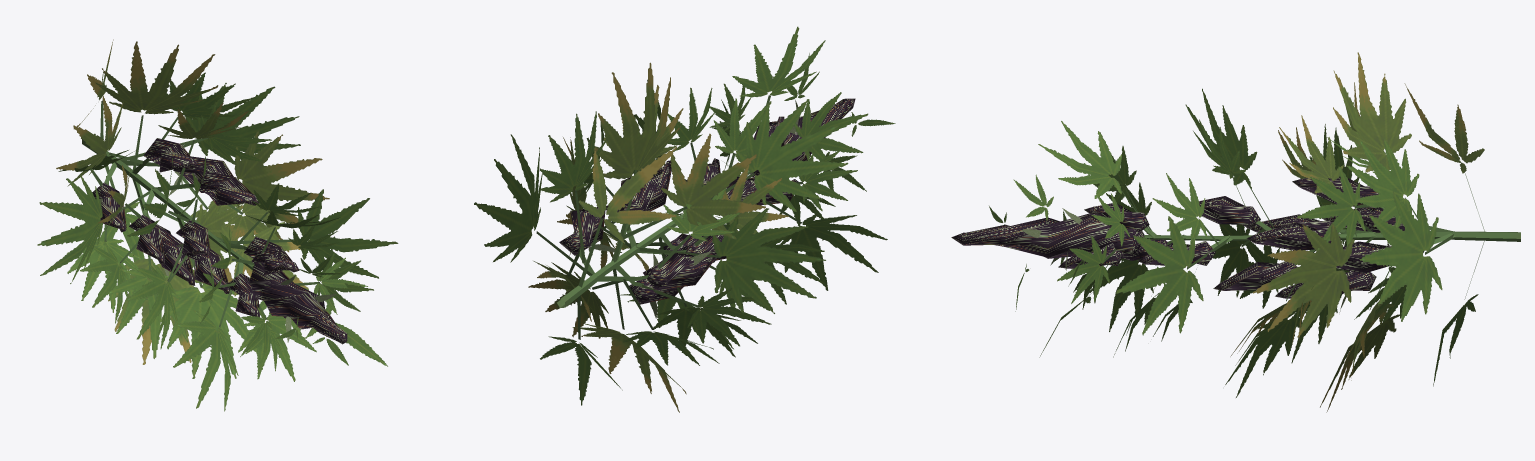
File: p_dark_landrace_ripe_c0_cards.obj
The picture shows the model from 3 angles, left to right: view 1: azimuth 30°, elevation 25°; view 2: azimuth 150°, elevation 25°; view 3: azimuth 270°, elevation 25°; orthographic projection. The views are drawn at different scales.
Size of the model in its own units: 1.57 by 1.65 by 2.13.
1 material, 1 textured.
